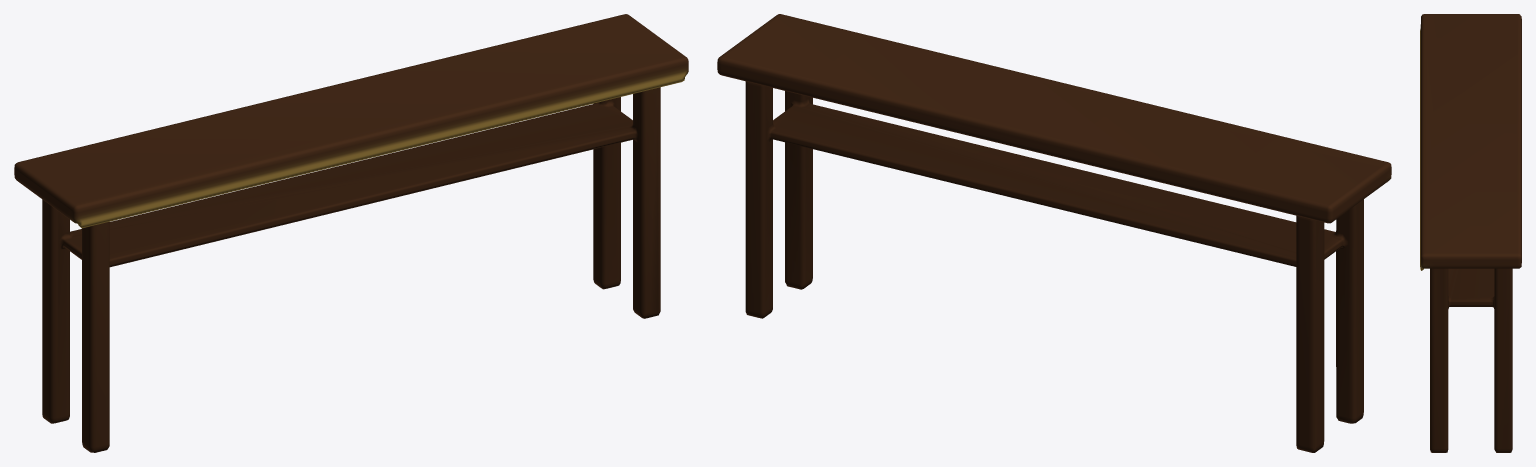
File: lumiere-console-table.glb
3 renders of one model, left to right at view 1: azimuth 30°, elevation 25°; view 2: azimuth 150°, elevation 25°; view 3: azimuth 270°, elevation 25°, orthographic. The views are drawn at different scales.
Visible parts, largest first — view 1: lumiere-console-table_LOD0; view 2: lumiere-console-table_LOD0; view 3: lumiere-console-table_LOD0.
Boxes of the visible parts, x1,y1,x2,y2 form: lumiere-console-table_LOD0: (14,14,688,452); lumiere-console-table_LOD0: (717,14,1391,452); lumiere-console-table_LOD0: (1420,14,1521,452).
Size of what is drawn, in the model's own units: 2.5 by 0.995 by 0.443.
